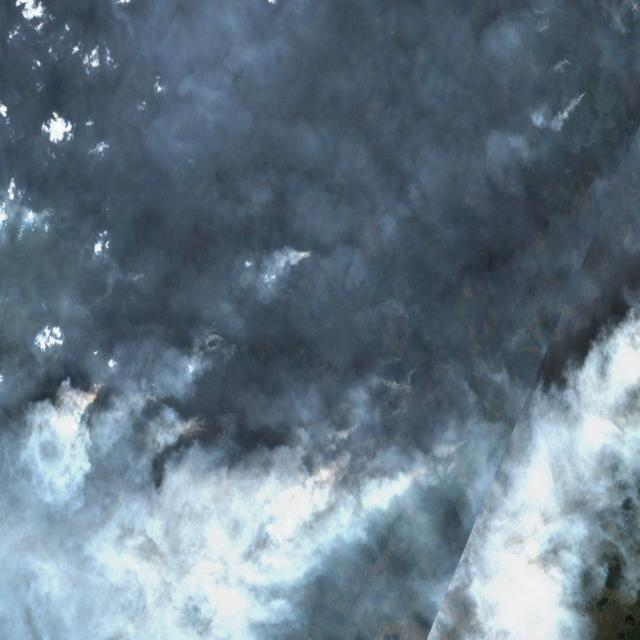fire: (250, 382, 466, 523), (29, 357, 213, 470), (260, 236, 325, 297), (552, 72, 596, 132)
